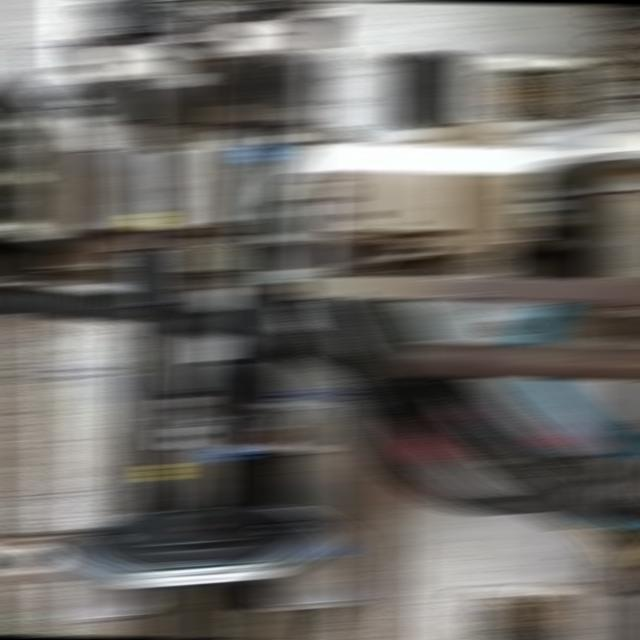blue: (240, 144, 279, 161), (209, 444, 246, 461)
yellow: (129, 212, 166, 229), (145, 463, 179, 479)
